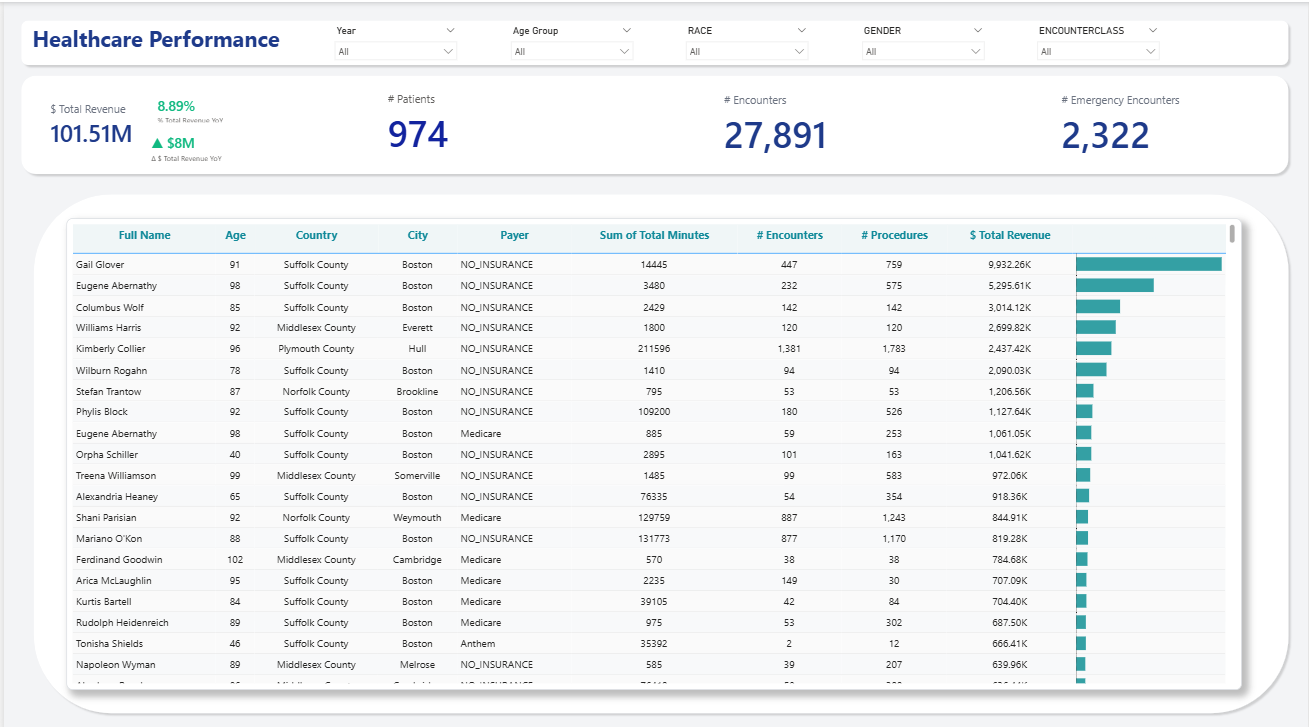

Layout of this report page (visuals, bound fields, positions):
{"tool":"powerbi","page":{"name":"Details","canvas":[1920,1080],"ordinal":4},"visuals":[{"type":"shape","box":[18.4,100.9,1879.6,159.2],"z":0},{"type":"cardVisual","fields":{"Data":["_Measures.$ Total Claim Cost"]},"box":[46.7,111.9,317.5,137.5],"z":0,"group":"g1"},{"type":"cardVisual","fields":{"Data":["_Measures.# Encounters"]},"box":[1038.5,111.5,317.1,137.1],"z":1000},{"type":"cardVisual","fields":{"Data":["_Measures.Δ $ Total Cost YoY"]},"box":[188.9,178.3,167.5,73.6],"z":1000,"group":"g1"},{"type":"shape","box":[36.7,276.7,1861.7,778.3],"z":2000},{"type":"cardVisual","fields":{"Data":["_Measures.# Emergency Encounters"]},"box":[1534.3,111.5,317.1,137.1],"z":3000},{"type":"cardVisual","fields":{"Data":["_Measures.# Patients"]},"box":[542.9,111.3,317,137.7],"z":4000},{"type":"shape","box":[18.4,20.4,1879.6,79.6],"z":5000},{"type":"group","id":"g1","title":"Group 1","box":[46.7,111.9,317.5,140.1],"z":5000,"group":"g2"},{"type":"textbox","box":[36.7,27.8,381.7,65],"z":6000},{"type":"slicer","fields":{"Values":["Calendar.Year"]},"box":[477,29.4,200,61.7],"z":7000},{"type":"slicer","fields":{"Values":["patients.Age Group"]},"box":[735.7,29.4,200,61.7],"z":8000},{"type":"slicer","fields":{"Values":["patients.RACE"]},"box":[994.3,29.4,200,61.7],"z":9000},{"type":"slicer","fields":{"Values":["patients.GENDER"]},"box":[1253,29.4,200,61.7],"z":10000},{"type":"slicer","fields":{"Values":["encounters.ENCOUNTERCLASS"]},"box":[1511.7,29.4,200,61.7],"z":11000},{"type":"tableEx","fields":{"Values":["patients.Full Name","Sum(patients.Age)","patients.COUNTY","patients.CITY","payers.NAME","Sum(encounters.Total Minutes)","_Measures.# Encounters","_Measures.# Procedures","_Measures.$ Total Revenue","_Measures.$ Total Revenue bars"]},"box":[92,318,1730,694],"z":12000},{"type":"group","id":"g2","title":"Group 2","box":[46.7,111.9,317.7,140.1],"z":13000},{"type":"cardVisual","fields":{"Data":["_Measures.% Total Revenue YoY"]},"box":[196.9,125.2,167.5,69.9],"z":17001,"group":"g2"}]}

Visuals, with their boxes in screenshot pixels (x1, y1, x2, y2), scaled from the page's 1920x1080 canvas onto the 1309x727 screenshot:
shape: rect(13, 68, 1294, 175)
cardVisual - _Measures.$ Total Claim Cost: rect(32, 75, 248, 168)
cardVisual - _Measures.# Encounters: rect(708, 75, 924, 167)
cardVisual - _Measures.Δ $ Total Cost YoY: rect(129, 120, 243, 170)
shape: rect(25, 186, 1294, 710)
cardVisual - _Measures.# Emergency Encounters: rect(1046, 75, 1262, 167)
cardVisual - _Measures.# Patients: rect(370, 75, 586, 168)
shape: rect(13, 14, 1294, 67)
"Group 1" group: rect(32, 75, 248, 170)
textbox: rect(25, 19, 285, 62)
slicer - Calendar.Year: rect(325, 20, 462, 61)
slicer - patients.Age Group: rect(502, 20, 638, 61)
slicer - patients.RACE: rect(678, 20, 814, 61)
slicer - patients.GENDER: rect(854, 20, 991, 61)
slicer - encounters.ENCOUNTERCLASS: rect(1031, 20, 1167, 61)
tableEx - patients.Full Name x Sum(patients.Age): rect(63, 214, 1242, 681)
"Group 2" group: rect(32, 75, 248, 170)
cardVisual - _Measures.% Total Revenue YoY: rect(134, 84, 248, 131)
